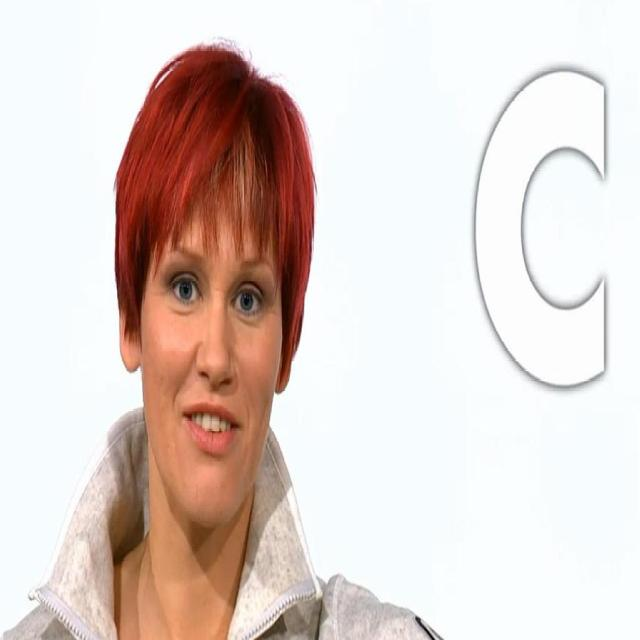Face: (124, 168, 284, 542)
